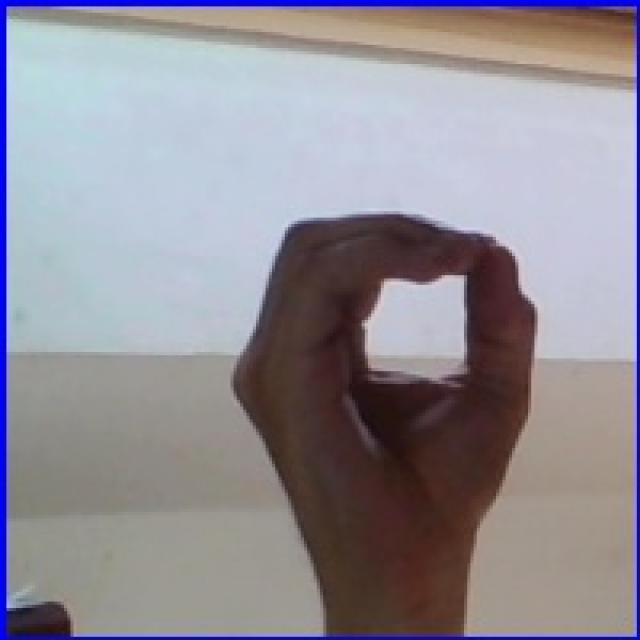Letra-O: (198, 188, 572, 640)
